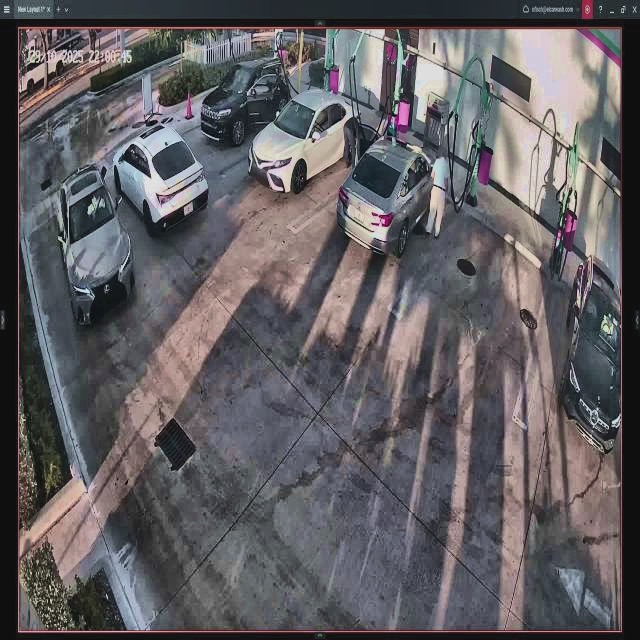Car: (340, 126, 439, 253), (248, 92, 362, 196), (121, 125, 207, 237), (202, 52, 287, 152)
